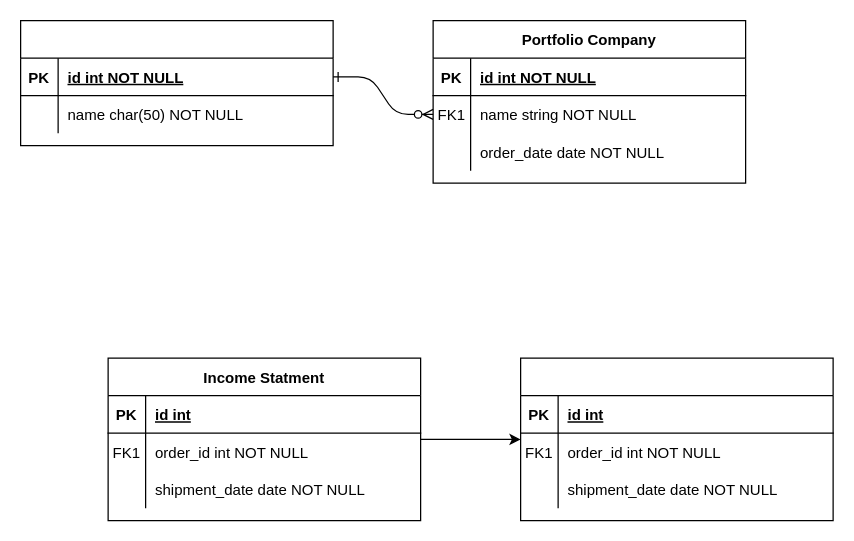
The diagram is 854 pixels wide and 541 high, and some of its shapes have lost their labels. The box of each missing label's shape, as (x1, y1, x2, y2) in pixels:
Income Statement Corrections: (519, 357, 833, 521)
Private Equity: (19, 19, 333, 146)
